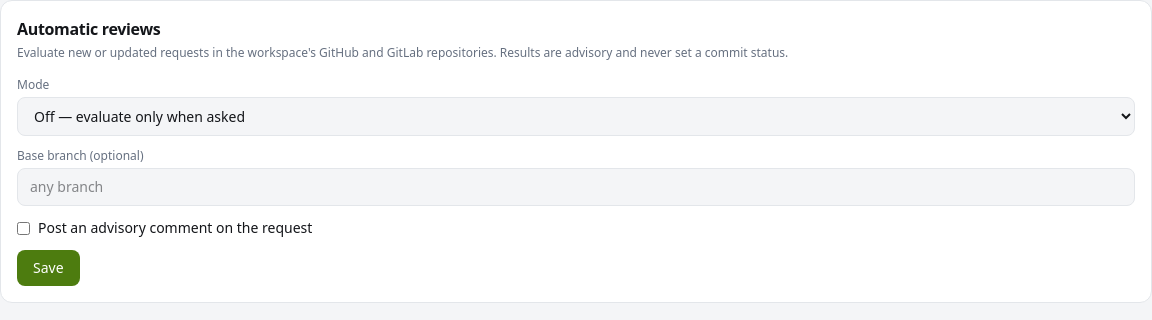
Scenario: CiSettingsPanel › saves the mode, the branch filter and the comment option
Select "On — evaluate when a PR opens or updates" in the dropdown at {"x": 576, "y": 116}, box [17,97,1135,136]
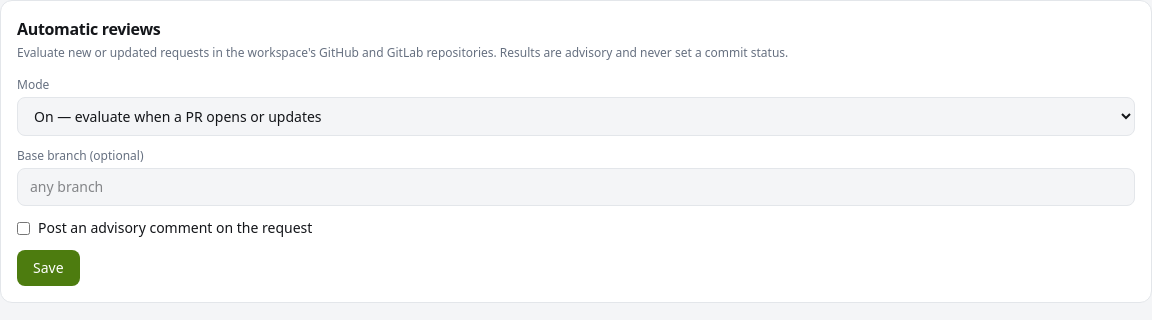
Type "main" into the field with placeholder "any branch".
click(576, 187); type("main")  # box [17,168,1135,206]
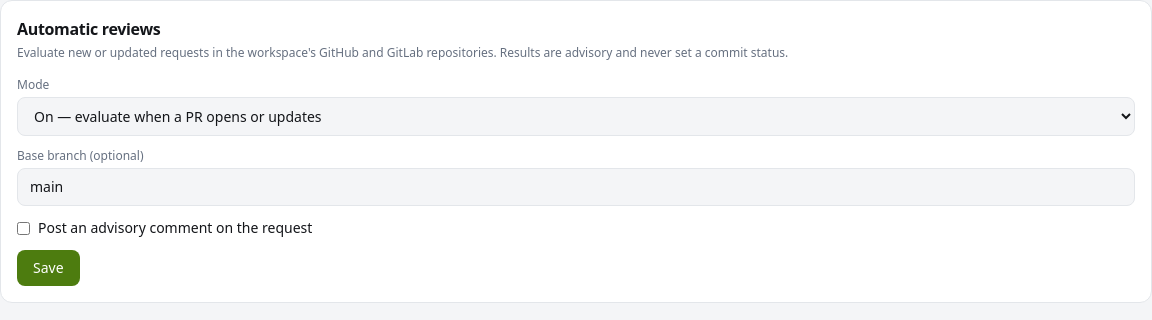
Click the checkbox.
click(24, 228)  # box [17,222,30,234]
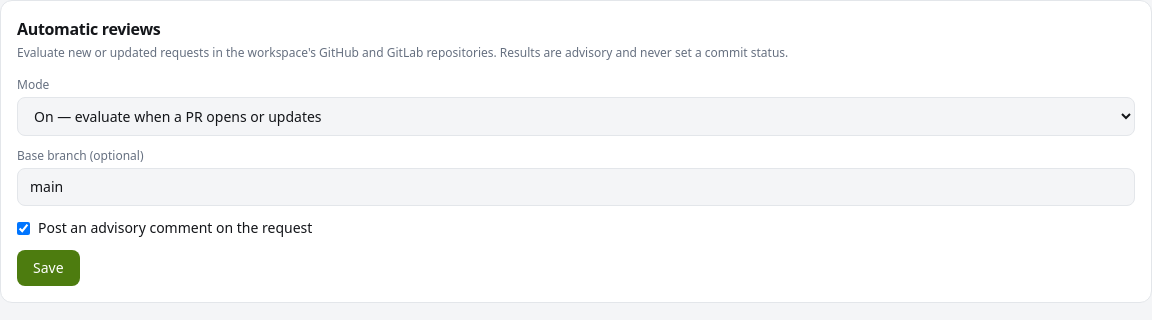
Click the button "Save".
click(48, 268)  # box [17,250,80,286]
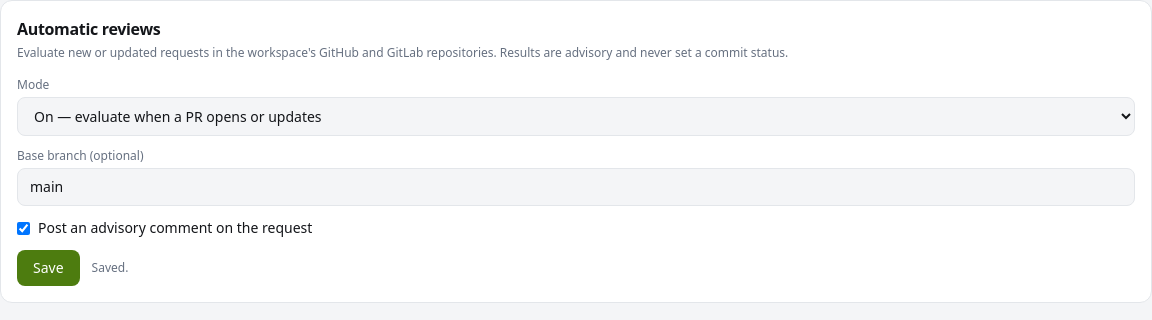
Expected: the text "Saved." is shown, [92,260,128,276]
